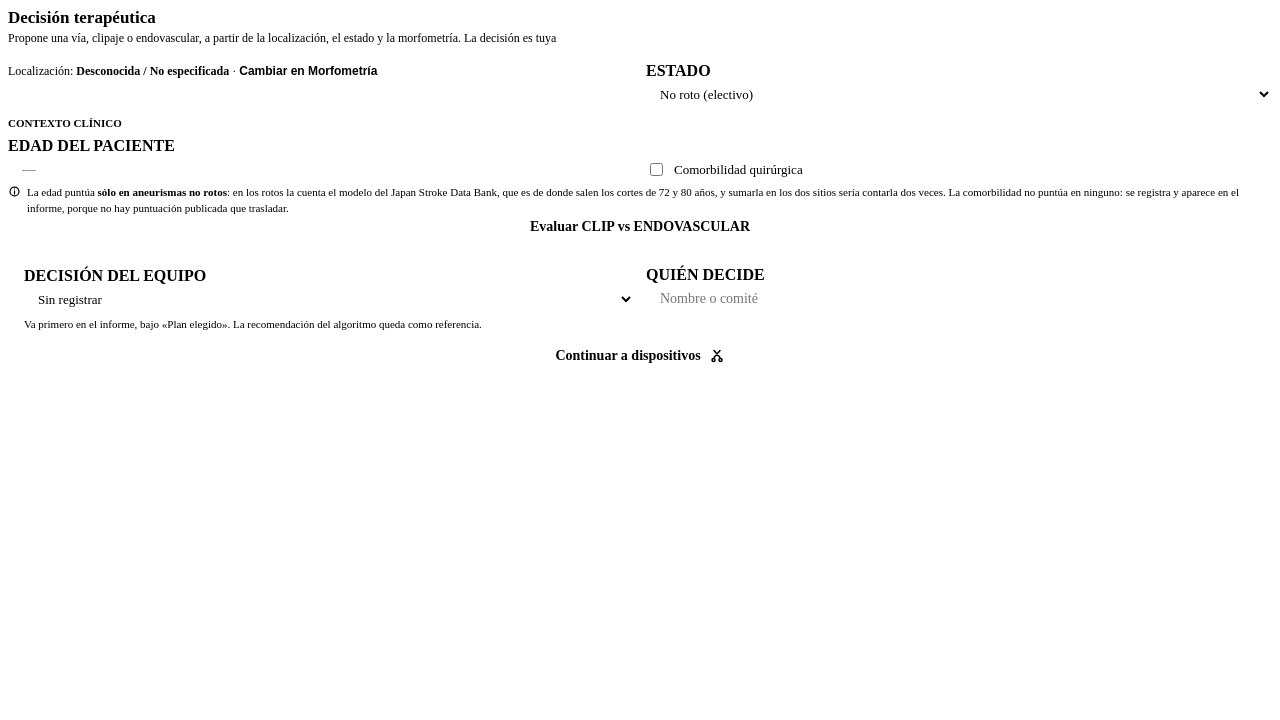
it: F1-175: el JSDB, veredicto arriba y WFNS antes de evaluar › roto sin WFNS muestra el aviso antes de evaluar
The image size is (1280, 720).
Select "Roto (SAH)" in the dropdown labelled "Estado": {"x": 959, "y": 94} [646,86,1272,103]
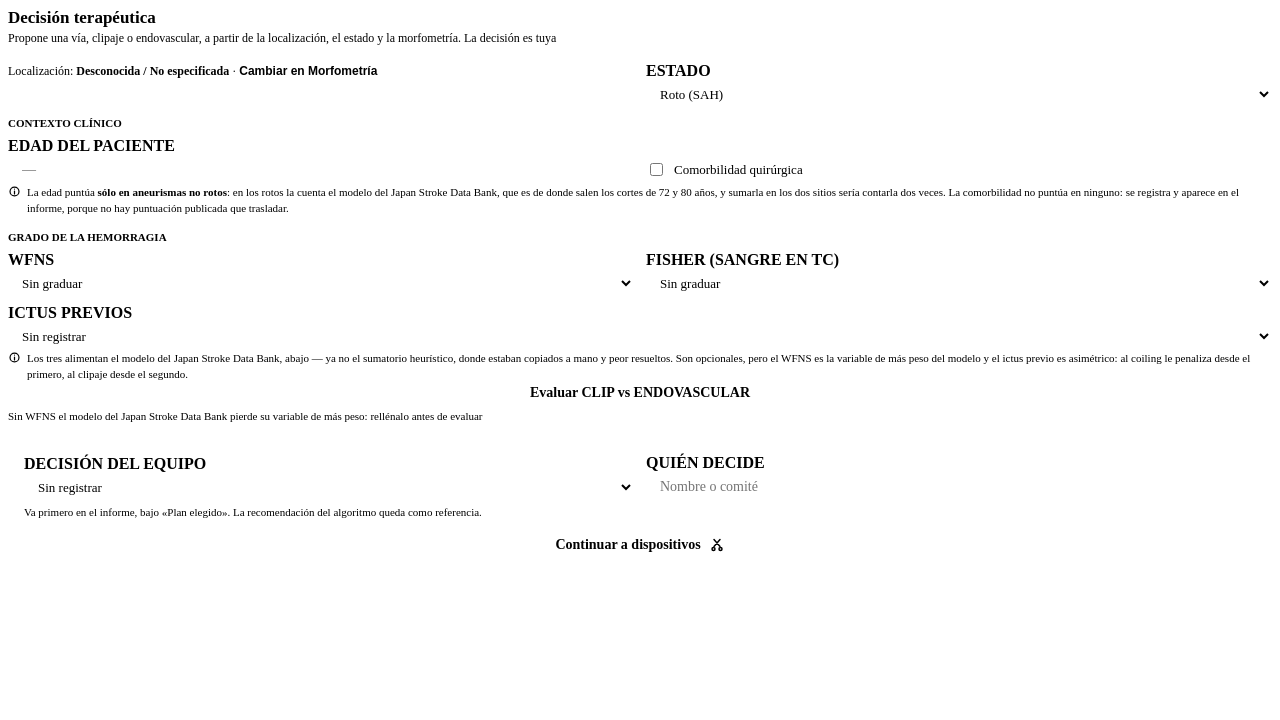
Result: the text "Sin WFNS el modelo del Japan Stroke Data Bank pierde su variable de más peso: rellénalo antes de evaluar" is shown at [8,410,482,422]
Select "WFNS 2" in the dropdown labelled "WFNS": {"x": 321, "y": 283} [8,275,634,292]
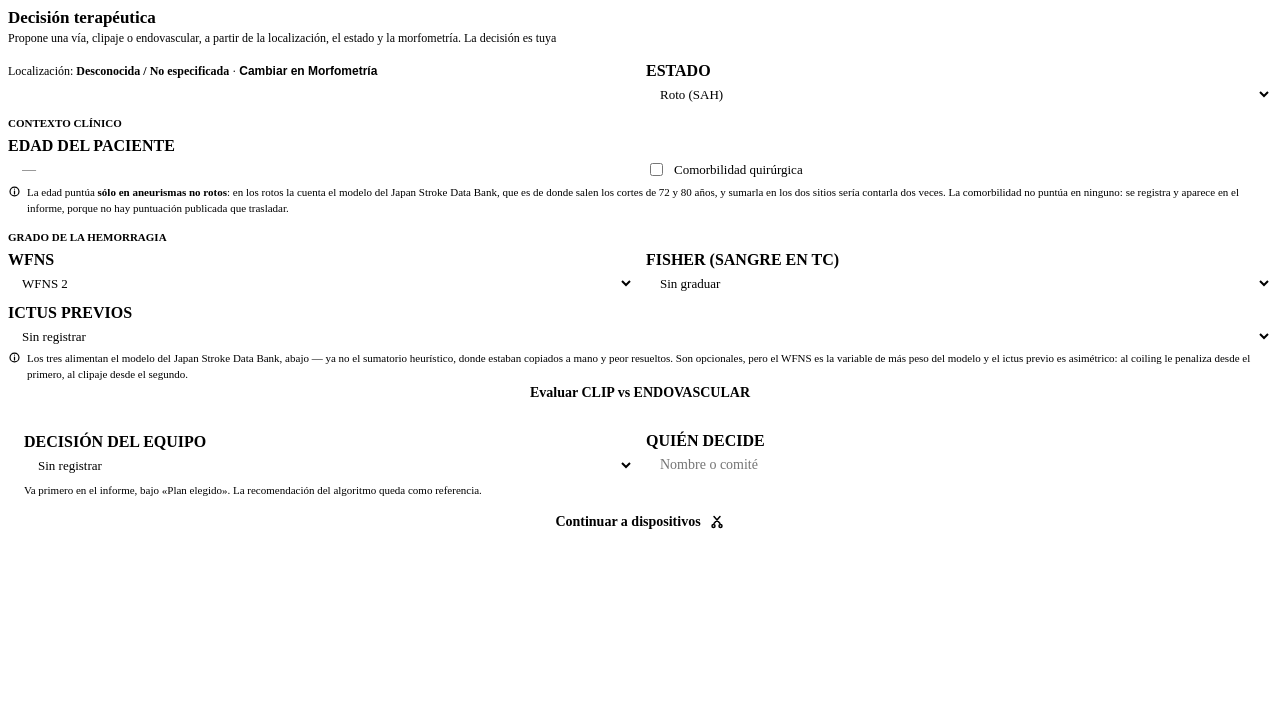
Result: the text "Sin WFNS el modelo del Japan Stroke Data Bank pierde su variable de más peso: rellénalo antes de evaluar" is gone
